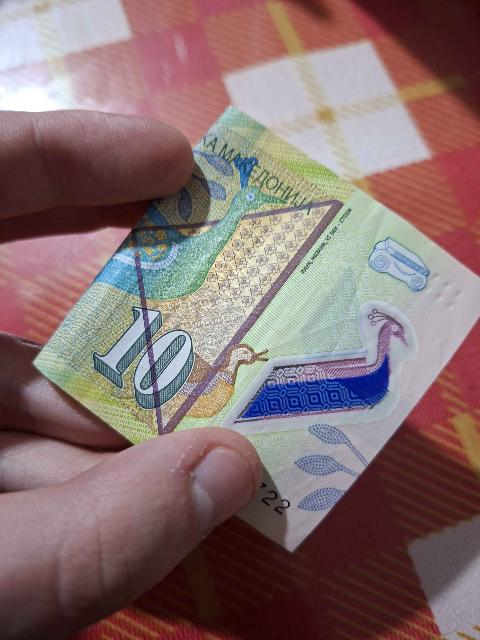note: (43, 107, 479, 546)
